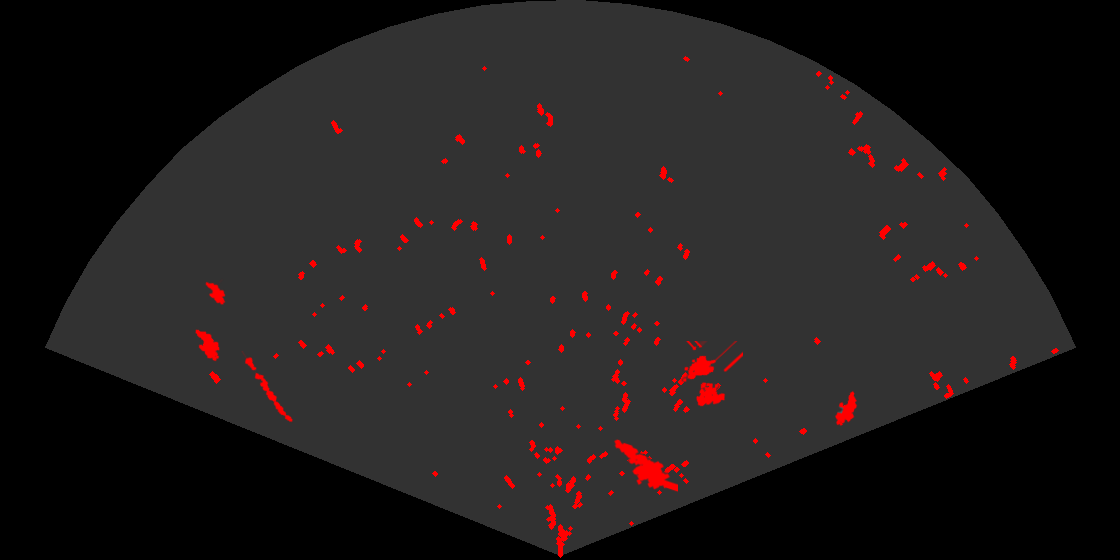AUV: (833, 389, 859, 428), (194, 328, 221, 363), (204, 278, 227, 306)
cage: (681, 341, 743, 408)
chain: (240, 351, 294, 424)
frogman: (612, 438, 678, 494)
